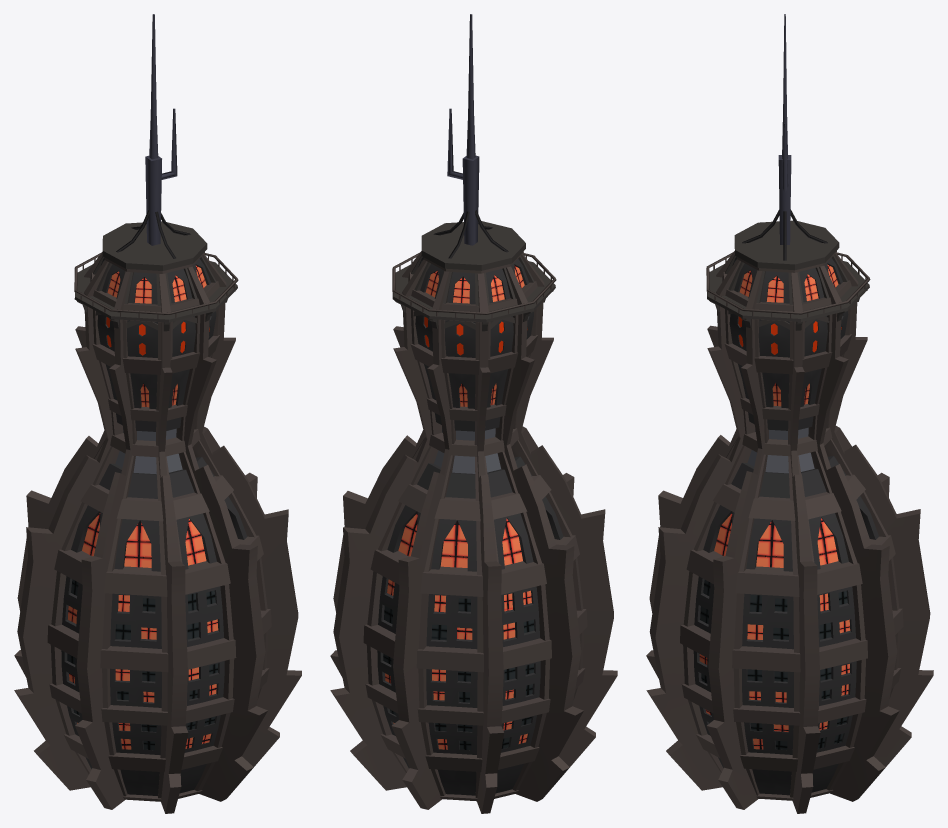
The model's file is Kingpin_Tower.fbx.
3 renders of one model, left to right at view 1: azimuth 30°, elevation 25°; view 2: azimuth 150°, elevation 25°; view 3: azimuth 270°, elevation 25°, orthographic.
Visible parts, largest first — view 1: Kingpin_Tower; view 2: Kingpin_Tower; view 3: Kingpin_Tower.
Boxes of the visible parts, x1,y1,x2,y2 form: Kingpin_Tower: (14, 14, 301, 813); Kingpin_Tower: (330, 14, 617, 813); Kingpin_Tower: (646, 14, 933, 813).
Size of the model in its own units: 111 by 324 by 111.
4 materials, 2 textured.
